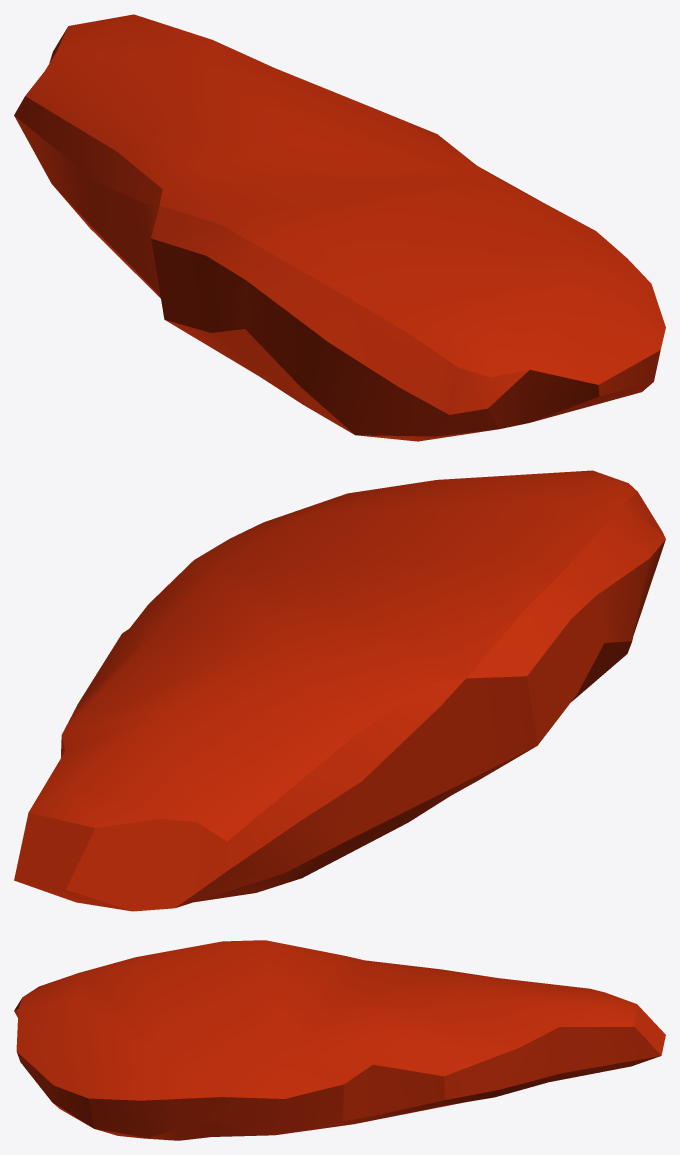
Rendered from SM_Sharp_Rock_04.fbx.
The picture shows the model from 3 angles, top to bottom: view 1: azimuth 30°, elevation 25°; view 2: azimuth 150°, elevation 25°; view 3: azimuth 270°, elevation 25°; orthographic projection. The views are drawn at different scales.
Visible parts, largest first — view 1: SM_Sharp_Rock_04; view 2: SM_Sharp_Rock_04; view 3: SM_Sharp_Rock_04.
Boxes of the visible parts, x1=… form: SM_Sharp_Rock_04: x1=14, y1=14, x2=665, y2=441; SM_Sharp_Rock_04: x1=14, y1=470, x2=665, y2=911; SM_Sharp_Rock_04: x1=14, y1=940, x2=665, y2=1140.
Bounding box in the file's own units: 196 × 81.02 × 438.
